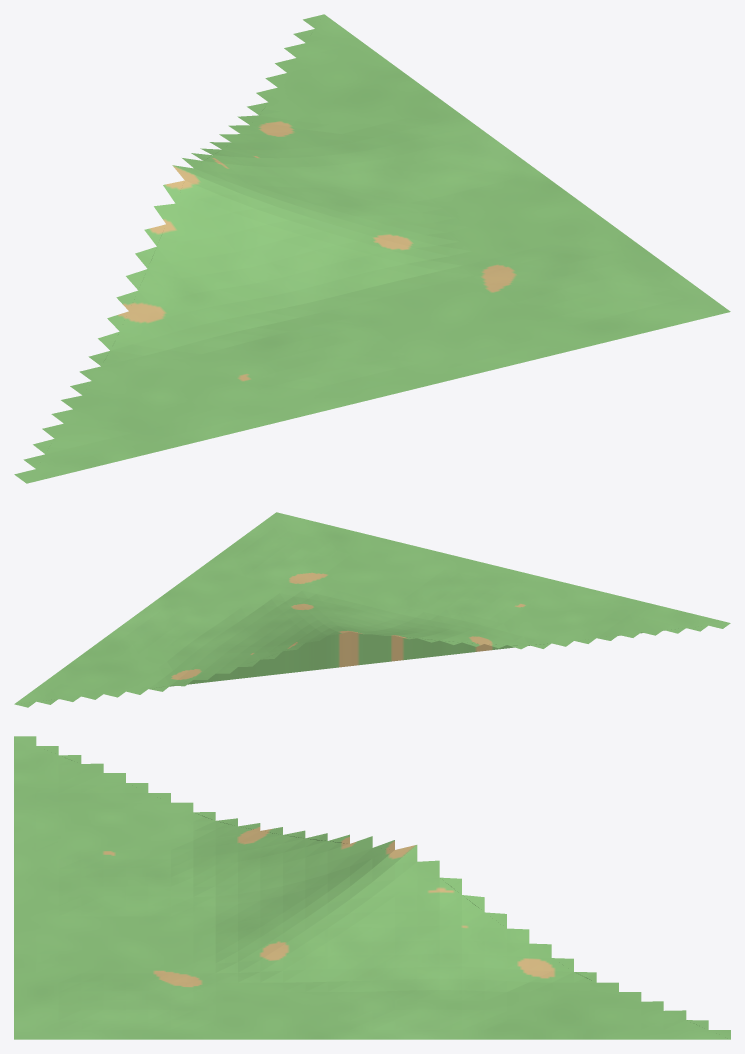
The model's file is Grass_Hills_01_NE.obj.
3 views of the same model, one above another, from view 1: azimuth 30°, elevation 25°; view 2: azimuth 150°, elevation 25°; view 3: azimuth 270°, elevation 25° (orthographic). The views are drawn at different scales.
Size of the model in its own units: 10 by 0.8126 by 10.
Materials: 1 (1 with a texture image).
